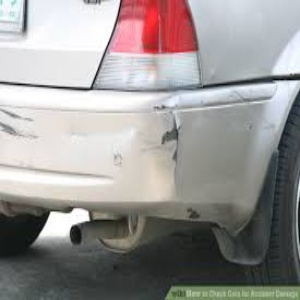bumper_scratch: (3, 98, 254, 220)
